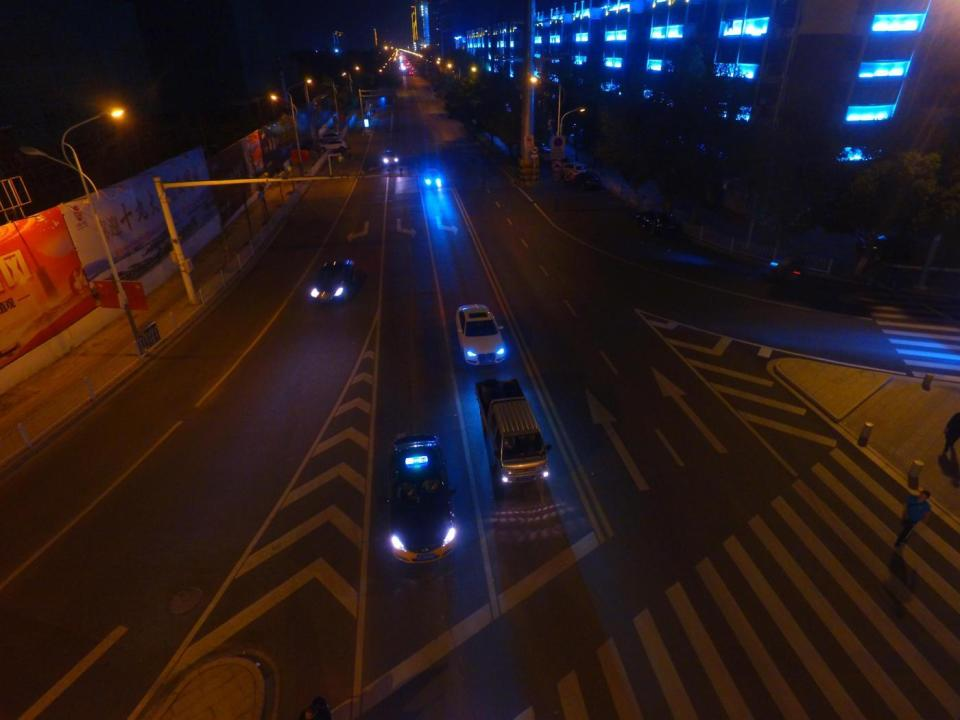car: (384, 428, 455, 568), (456, 304, 504, 364), (311, 257, 355, 303), (636, 207, 678, 237), (573, 173, 601, 192), (560, 160, 586, 178), (313, 139, 349, 151), (380, 148, 400, 166), (310, 132, 342, 143), (409, 71, 414, 76)
truck: (475, 380, 552, 492)
